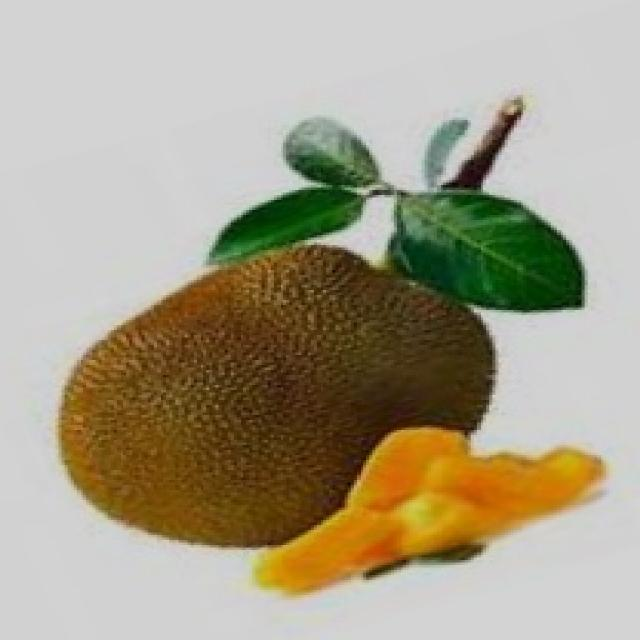Fruit: (31, 222, 437, 578)
